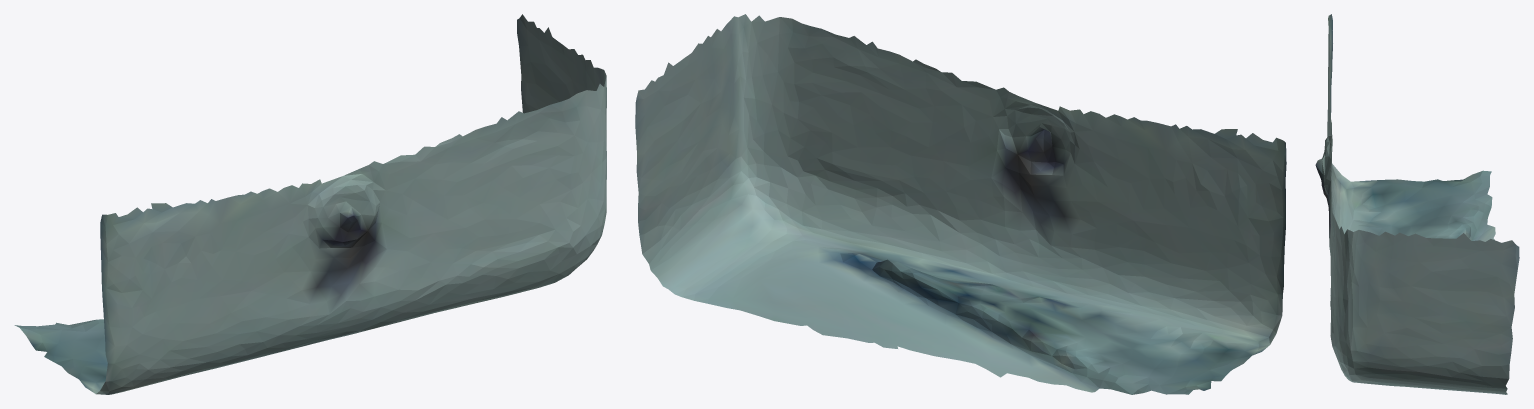
The model's file is scan.obj.
The picture shows the model from 3 angles, left to right: view 1: azimuth 30°, elevation 25°; view 2: azimuth 150°, elevation 25°; view 3: azimuth 270°, elevation 25°; orthographic projection. The views are drawn at different scales.
Parts seen in each view (by area): view 1: scan.ply; view 2: scan.ply; view 3: scan.ply.
Part boxes in pixels (box(x1,y1,x2,y2)): scan.ply: box(14, 14, 606, 394); scan.ply: box(635, 14, 1286, 394); scan.ply: box(1315, 14, 1519, 394).
Size of the model in its own units: 0.0789 by 0.0293 by 0.0302.
